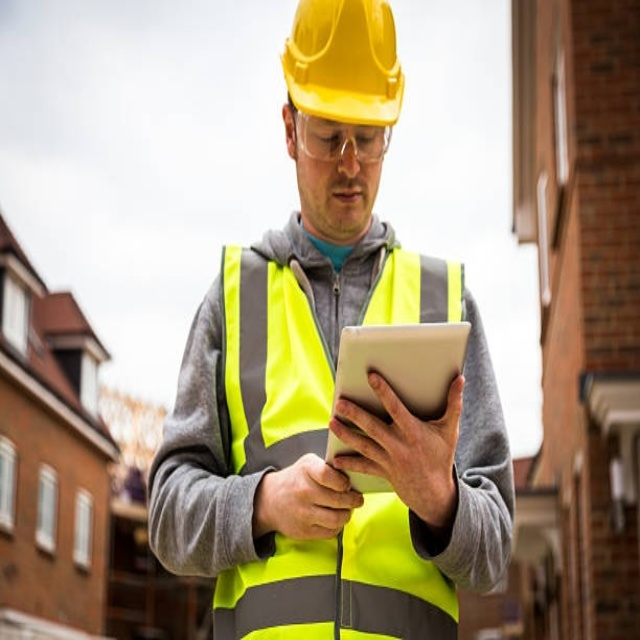Gafas: (293, 104, 395, 162)
Sin_guantes: (329, 366, 465, 524), (266, 451, 365, 544)
Sin_mascara: (318, 174, 373, 232)
